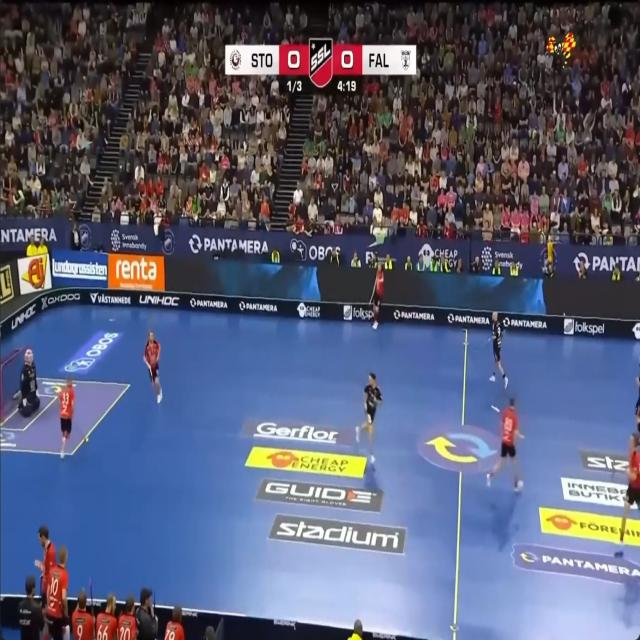Balls: (84, 436, 89, 442)
player: (487, 399, 523, 491), (356, 372, 382, 463), (620, 432, 640, 542), (45, 545, 68, 639), (34, 525, 55, 610), (18, 349, 40, 417), (491, 312, 508, 388), (58, 378, 74, 458), (144, 331, 161, 403), (71, 591, 95, 639), (96, 594, 117, 639), (117, 596, 137, 639), (372, 263, 384, 328), (164, 605, 184, 639), (490, 368, 495, 380)
